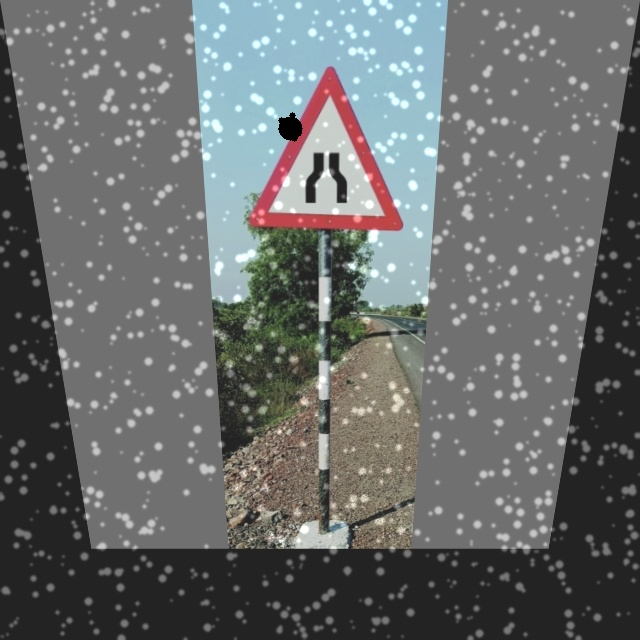Narrow_Road_Ahead: (246, 70, 412, 232)
